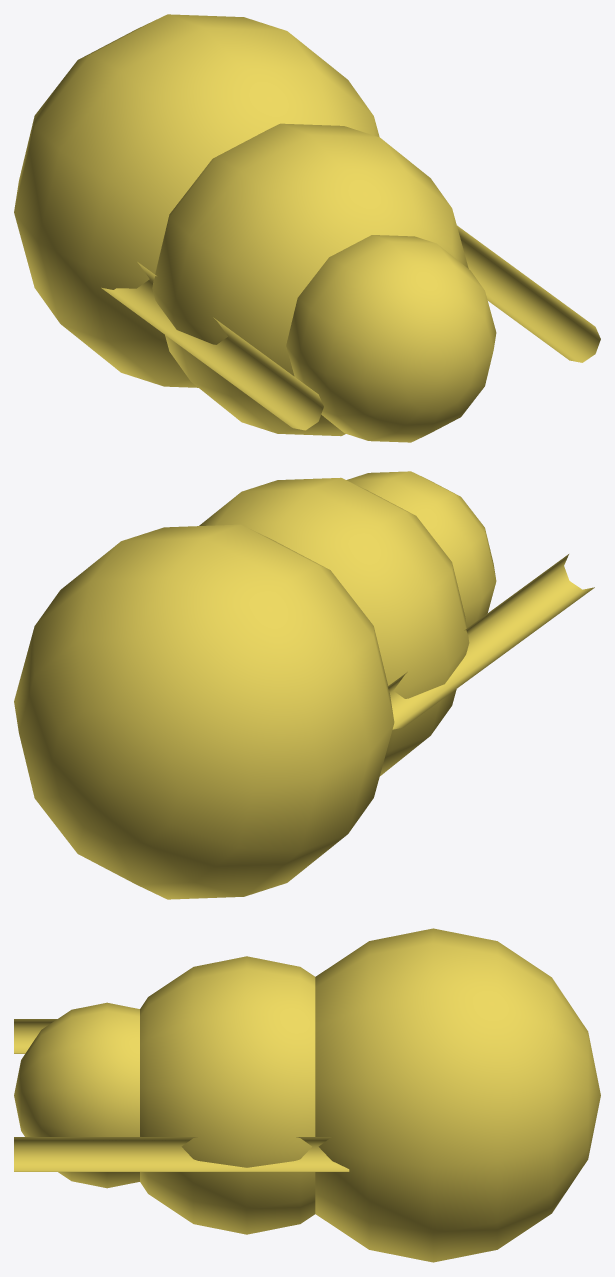
The picture shows the model from 3 angles, top to bottom: view 1: azimuth 30°, elevation 25°; view 2: azimuth 150°, elevation 25°; view 3: azimuth 270°, elevation 25°; orthographic projection. The views are drawn at different scales.
Visible parts, largest first — view 1: Leaf Insect; view 2: Leaf Insect; view 3: Leaf Insect.
Boxes of the visible parts, x1,y1,x2,y2 form: Leaf Insect: (14,14,600,442); Leaf Insect: (14,471,594,899); Leaf Insect: (14,928,600,1262).
Bounding box in the file's own units: 0.432 × 0.432 × 0.756.
